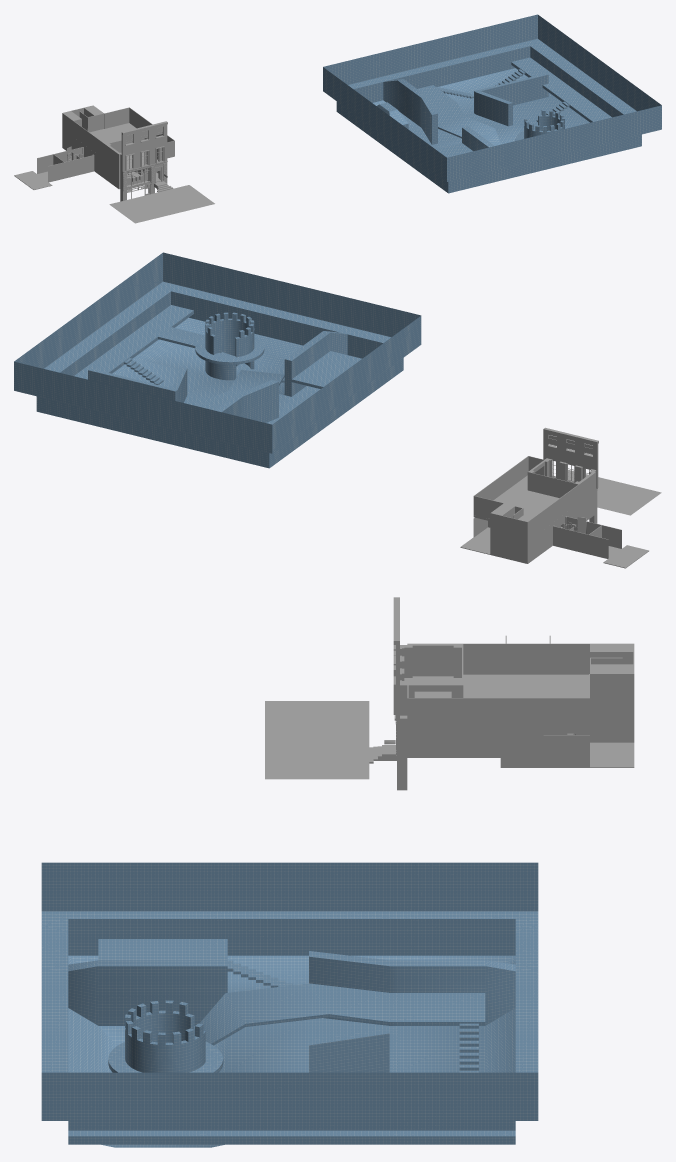
Rendered from KingsMan.glb.
3 views of the same model, one above another, from view 1: azimuth 30°, elevation 25°; view 2: azimuth 150°, elevation 25°; view 3: azimuth 270°, elevation 25° (orthographic). The views are drawn at different scales.
Parts seen in each view (by area): view 1: Cube.004, F1_F_001; view 2: Cube.004, F1_F_001; view 3: Cube.004, F1_F_001.
Boxes of the visible parts, <box> form: Cube.004: <box>323,14,661,193</box>; F1_F_001: <box>14,105,214,223</box>; Cube.004: <box>14,252,421,468</box>; F1_F_001: <box>460,427,661,568</box>; Cube.004: <box>41,862,538,1147</box>; F1_F_001: <box>265,597,634,790</box>.
Size of the model in its own units: 82.54 by 11.4 by 41.
2 materials, 1 textured.
